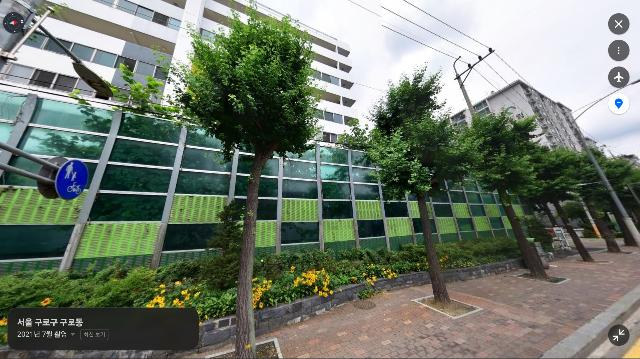other: (150, 0, 326, 359), (344, 60, 475, 311), (438, 108, 557, 282), (517, 139, 597, 264), (567, 154, 630, 253)
